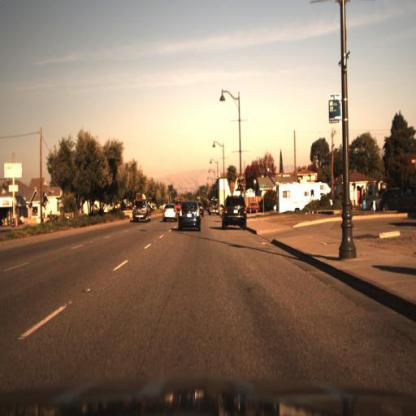car: (176, 192, 205, 238), (222, 194, 251, 233), (130, 191, 154, 229), (363, 186, 384, 217), (160, 200, 178, 229), (246, 199, 262, 222), (210, 196, 224, 217), (198, 200, 208, 222)
truck: (275, 179, 332, 214)
